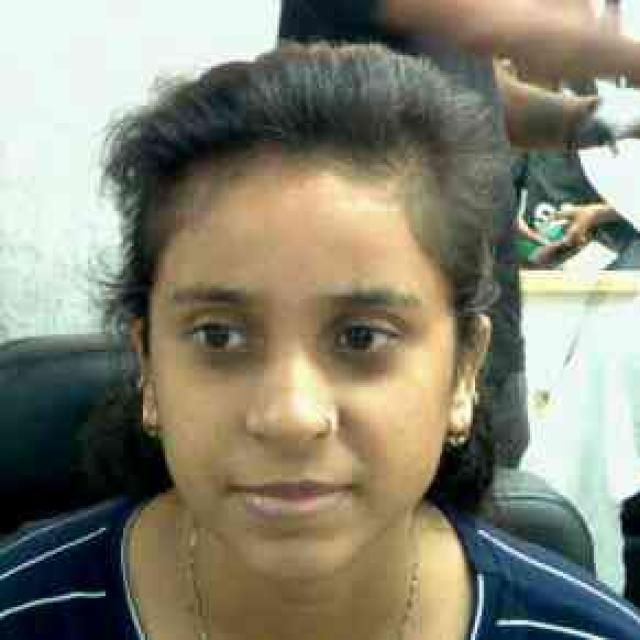Puffy Eyes - v3 Dark Circle: (192, 342, 264, 379), (325, 354, 388, 382)
